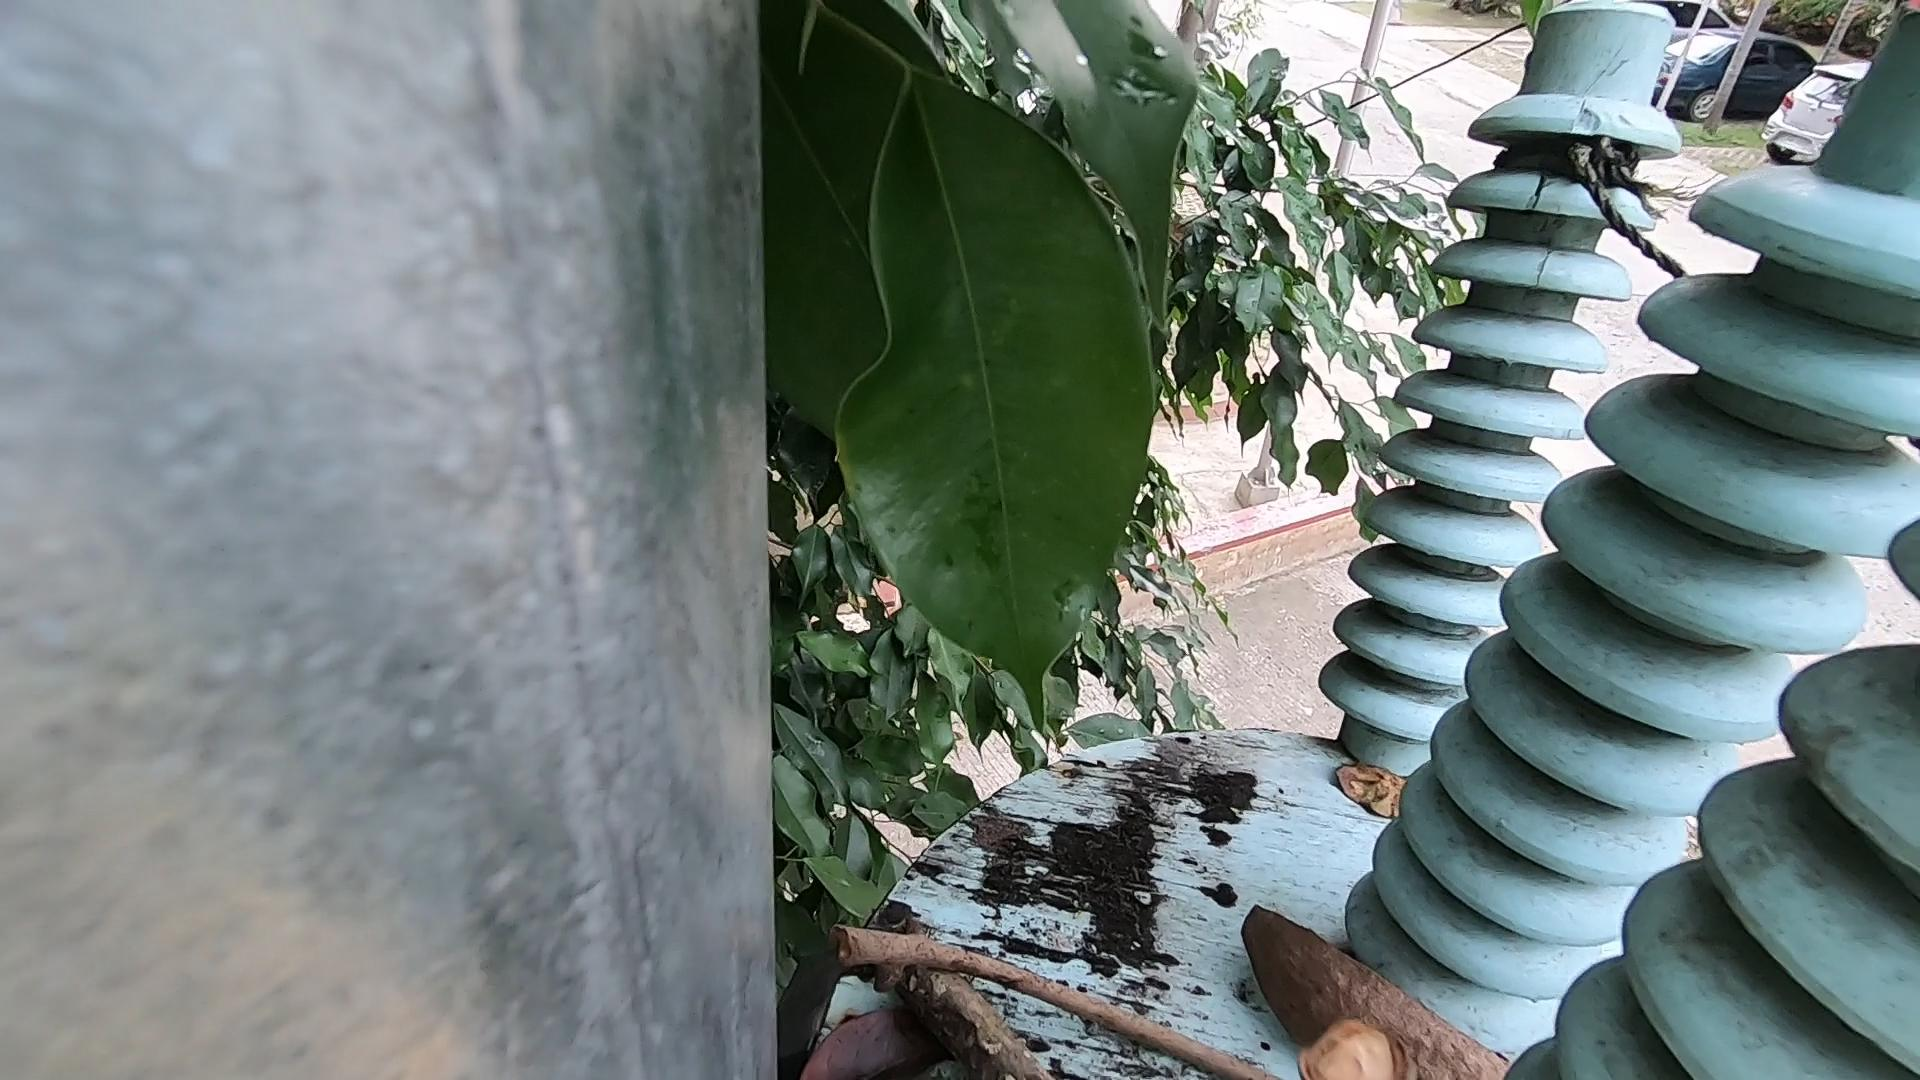branch with leaves: (876, 924, 1023, 1080)
leaf: (796, 969, 967, 1080), (1309, 723, 1447, 853)
mahogany fruit: (1211, 861, 1480, 1080)
tree branch: (837, 924, 1261, 1080)
